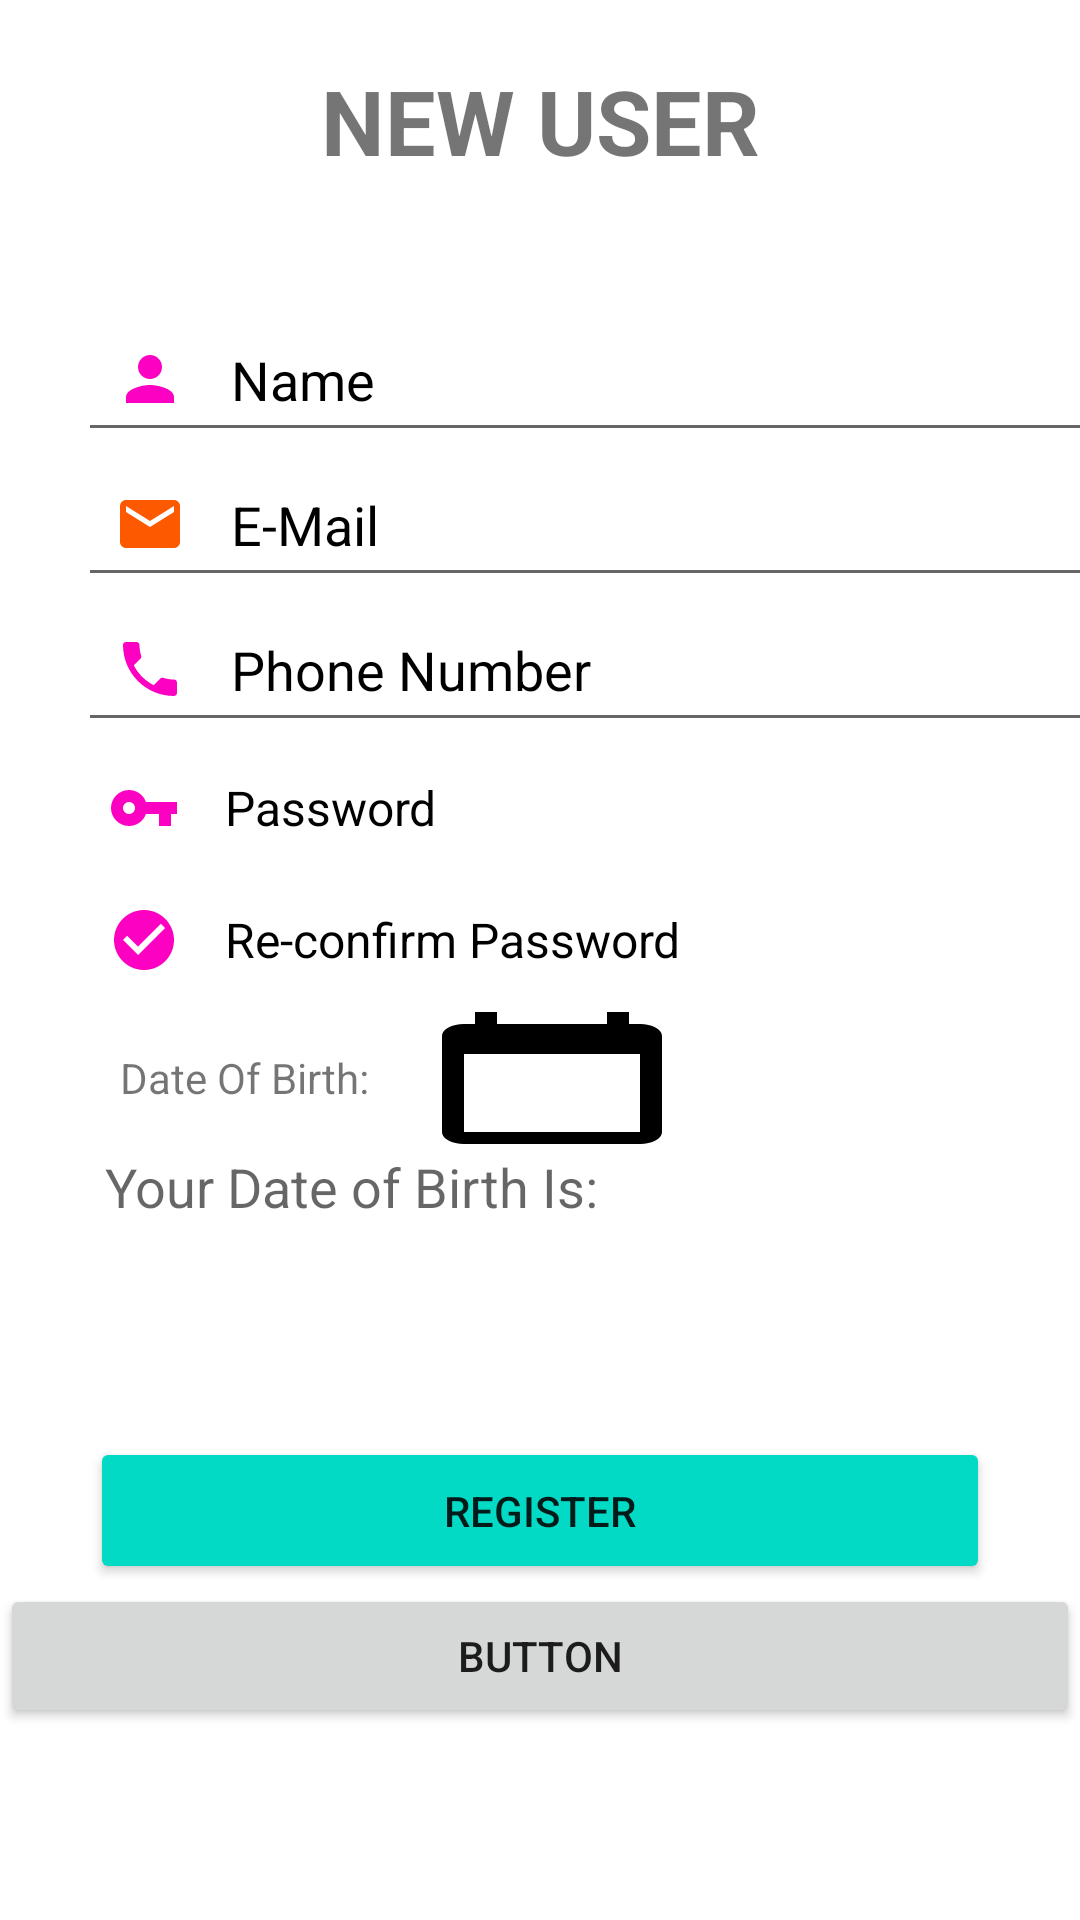

Where to tap for icons on this 1080px×1920px app screen, as (x=x, y=y):
calendar today: (x=552, y=1078)
